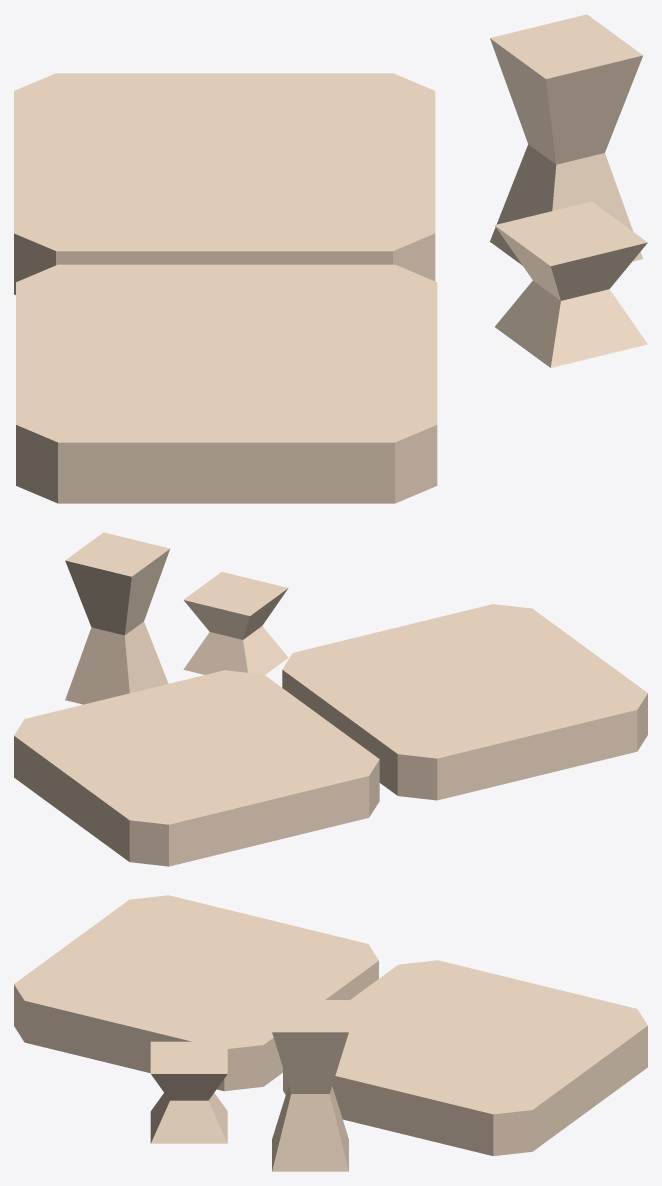
File: Farmlvl2.fbx
The picture shows the model from 3 angles, top to bottom: view 1: azimuth 30°, elevation 25°; view 2: azimuth 150°, elevation 25°; view 3: azimuth 270°, elevation 25°; orthographic projection. The views are drawn at different scales.
Visible parts, largest first — view 1: grain.002, grain.001, grainBundle.003, grainBundle.002; view 2: grain.001, grain.002, grainBundle.003, grainBundle.002; view 3: grain.001, grain.002, grainBundle.003, grainBundle.002.
Part boxes in pixels (box(x1,y1,x2,y2)): grain.002: box(16, 264, 437, 503); grain.001: box(14, 73, 435, 294); grainBundle.003: box(490, 14, 642, 265); grainBundle.002: box(494, 201, 647, 367); grain.001: box(14, 670, 379, 866); grain.002: box(282, 604, 647, 800); grainBundle.003: box(65, 532, 169, 704); grainBundle.002: box(183, 572, 288, 674); grain.001: box(283, 960, 647, 1156); grain.002: box(14, 895, 378, 1091); grainBundle.003: box(272, 1000, 348, 1171); grainBundle.002: box(150, 1041, 227, 1143).
Bounding box in the file's own units: 72.25 × 20 × 82.48.
